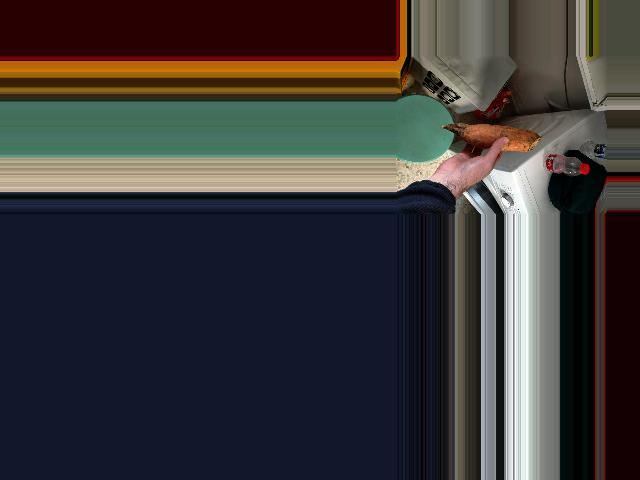sweet_potato: (437, 121, 544, 147)
